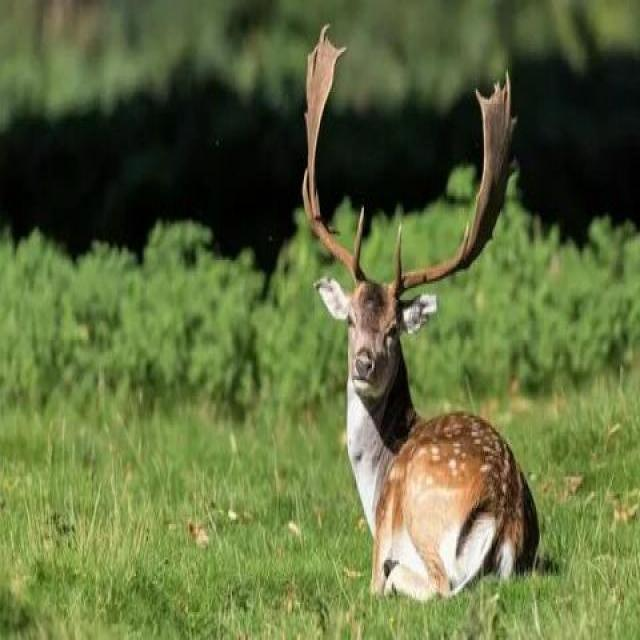deer: (285, 39, 546, 597)
